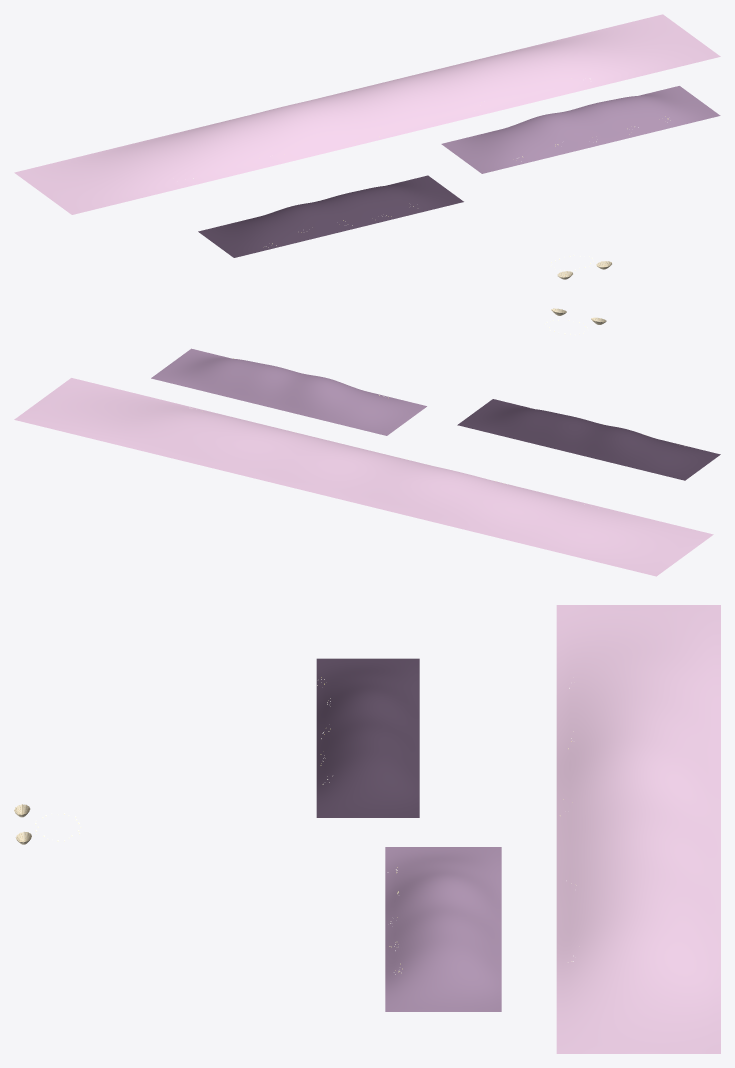
File: shell-concert-environment.glb
3 views of the same model, one above another, from view 1: azimuth 30°, elevation 25°; view 2: azimuth 150°, elevation 25°; view 3: azimuth 270°, elevation 25° (orthographic). The views are drawn at different scales.
Visible parts, largest first — view 1: Harbour_island_2, Harbour_island_1, Harbour_island_0; view 2: Harbour_island_2, Harbour_island_1, Harbour_island_0; view 3: Harbour_island_2, Harbour_island_1, Harbour_island_0.
Part boxes in pixels (left/top/right/bottom): Harbour_island_2: left=14, top=14, right=720, bottom=214; Harbour_island_1: left=441, top=86, right=720, bottom=173; Harbour_island_0: left=198, top=175, right=463, bottom=257; Harbour_island_2: left=14, top=378, right=713, bottom=576; Harbour_island_1: left=151, top=348, right=426, bottom=435; Harbour_island_0: left=457, top=399, right=720, bottom=480; Harbour_island_2: left=556, top=605, right=720, bottom=1053; Harbour_island_1: left=385, top=847, right=501, bottom=1011; Harbour_island_0: left=316, top=658, right=419, bottom=817.
Bounding box in the file's own units: 310 × 9.15 × 206.
